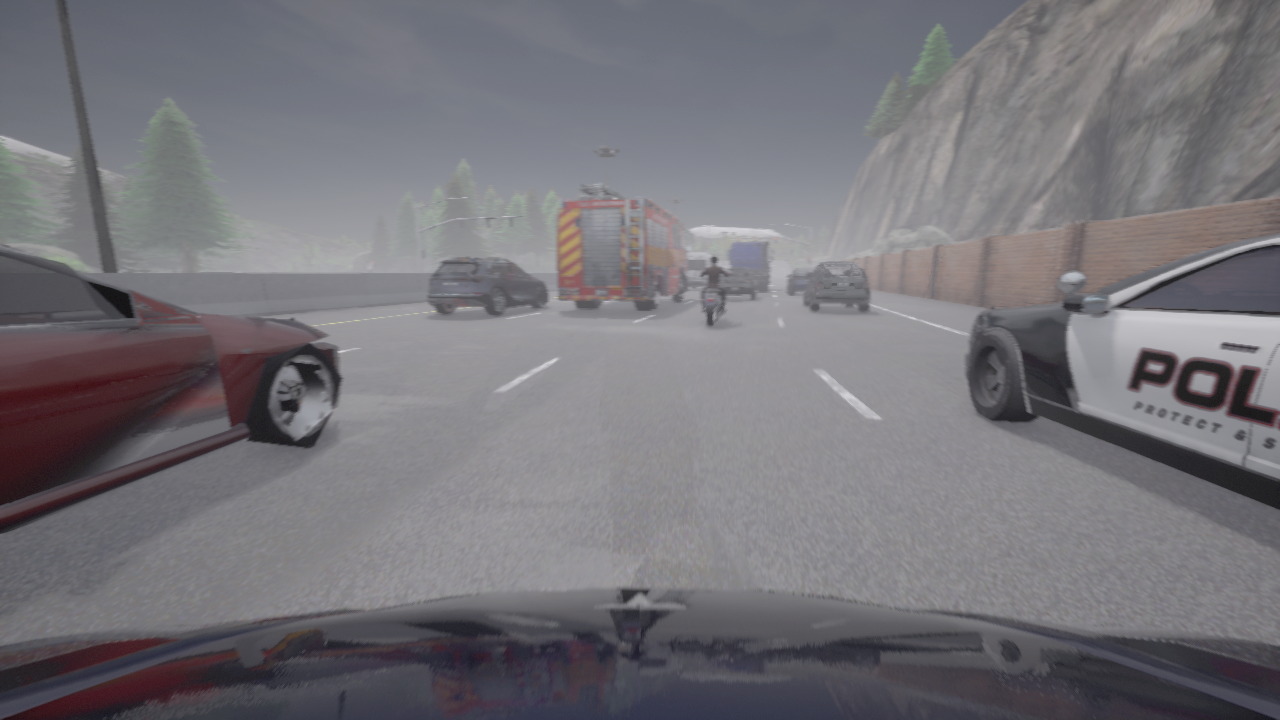cyclist: (0, 588, 1279, 719), (964, 234, 1279, 510), (557, 183, 692, 309), (428, 257, 547, 315), (804, 262, 870, 312), (728, 241, 773, 291), (720, 267, 758, 300), (702, 275, 726, 326), (686, 252, 712, 288), (787, 268, 815, 294)
